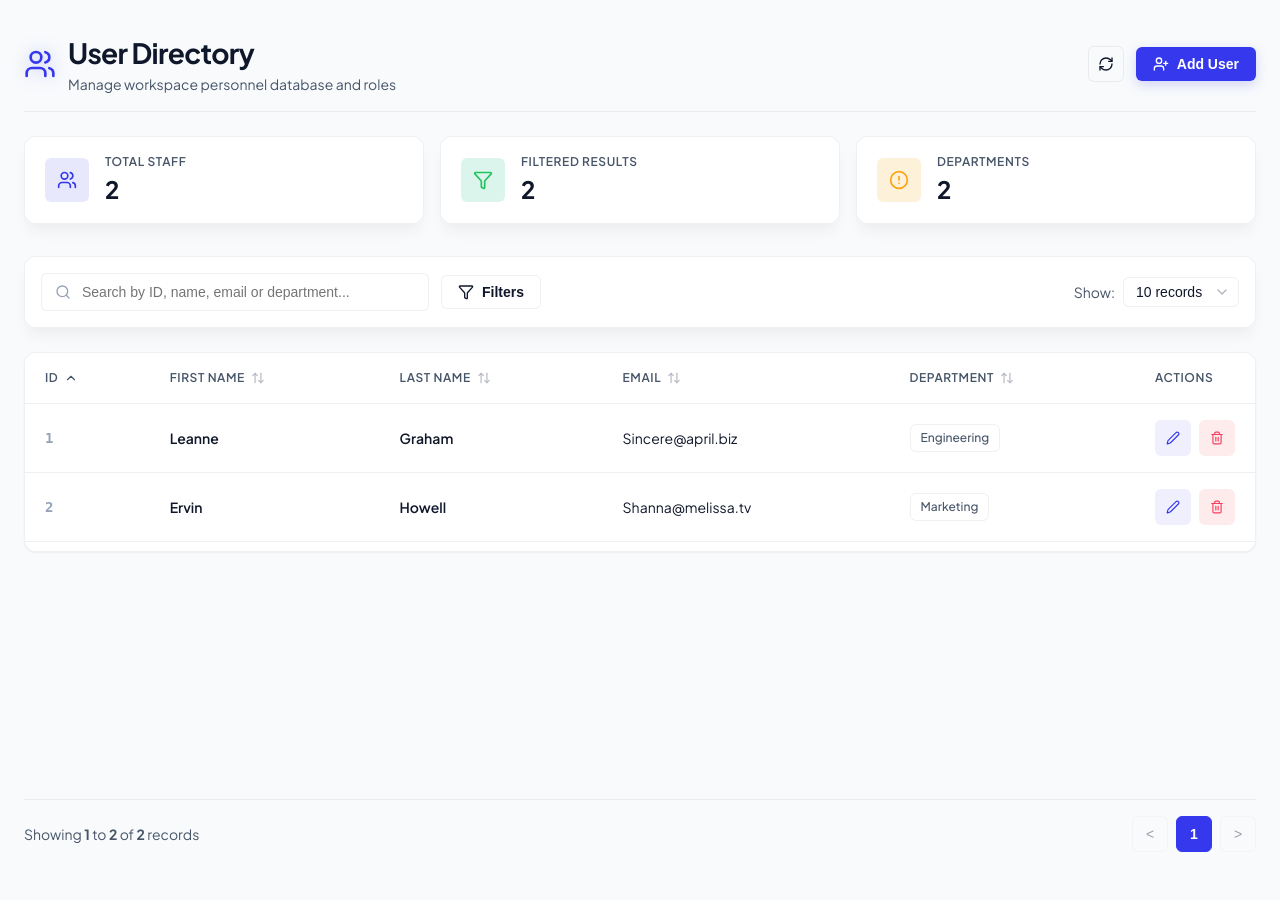
Scenario: User Management App Integration › should display client-side validation errors in form modal
The image size is (1280, 900).
Expected: the element with test id "user-table" is shown, [24,352,1256,552]
# Open add form
Click the button "Add User" at x=1196, y=64, box [1136,46,1256,80]
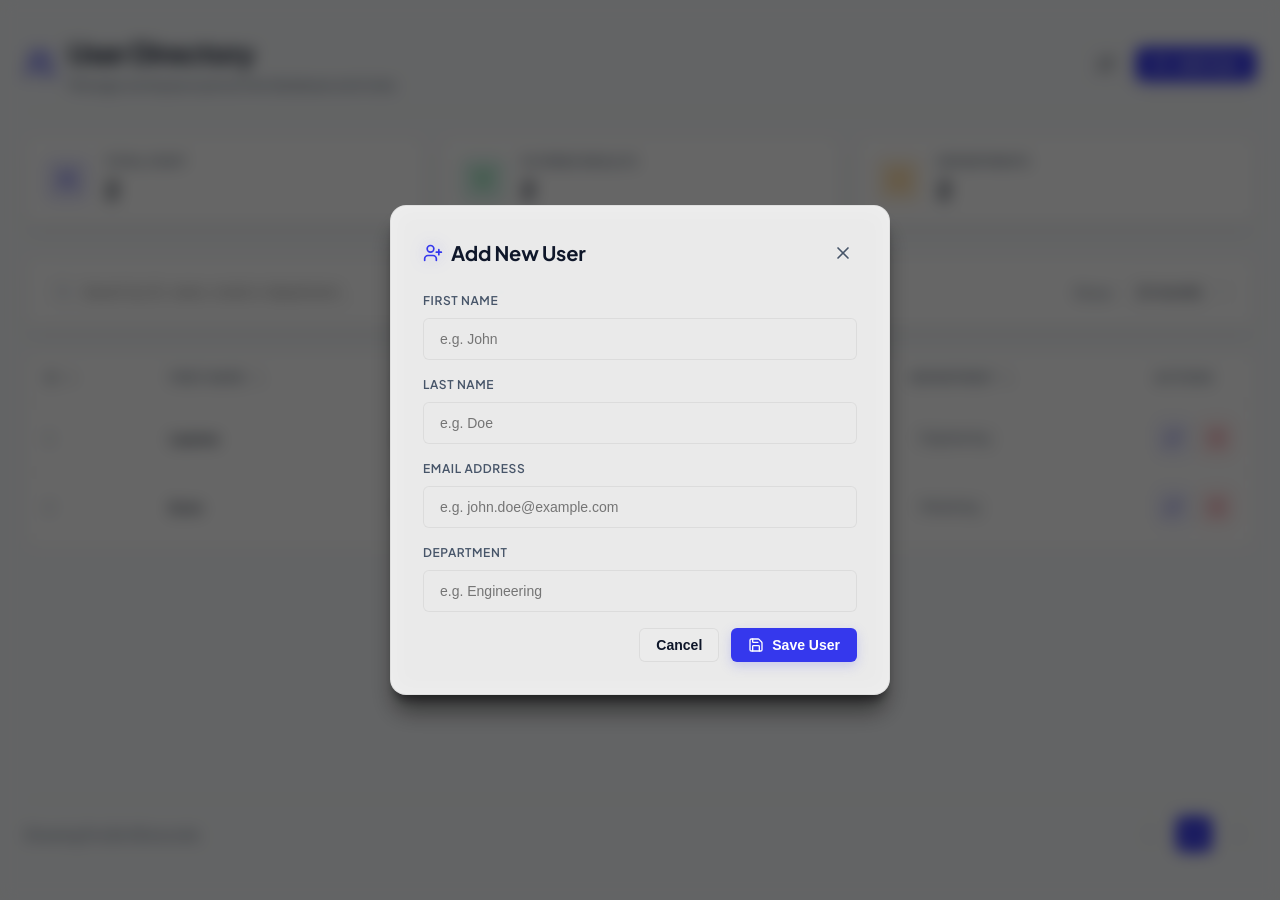
# Click Save directly without typing anything
Click the button with test id "save-user-btn" at x=794, y=645, box [731,628,857,662]
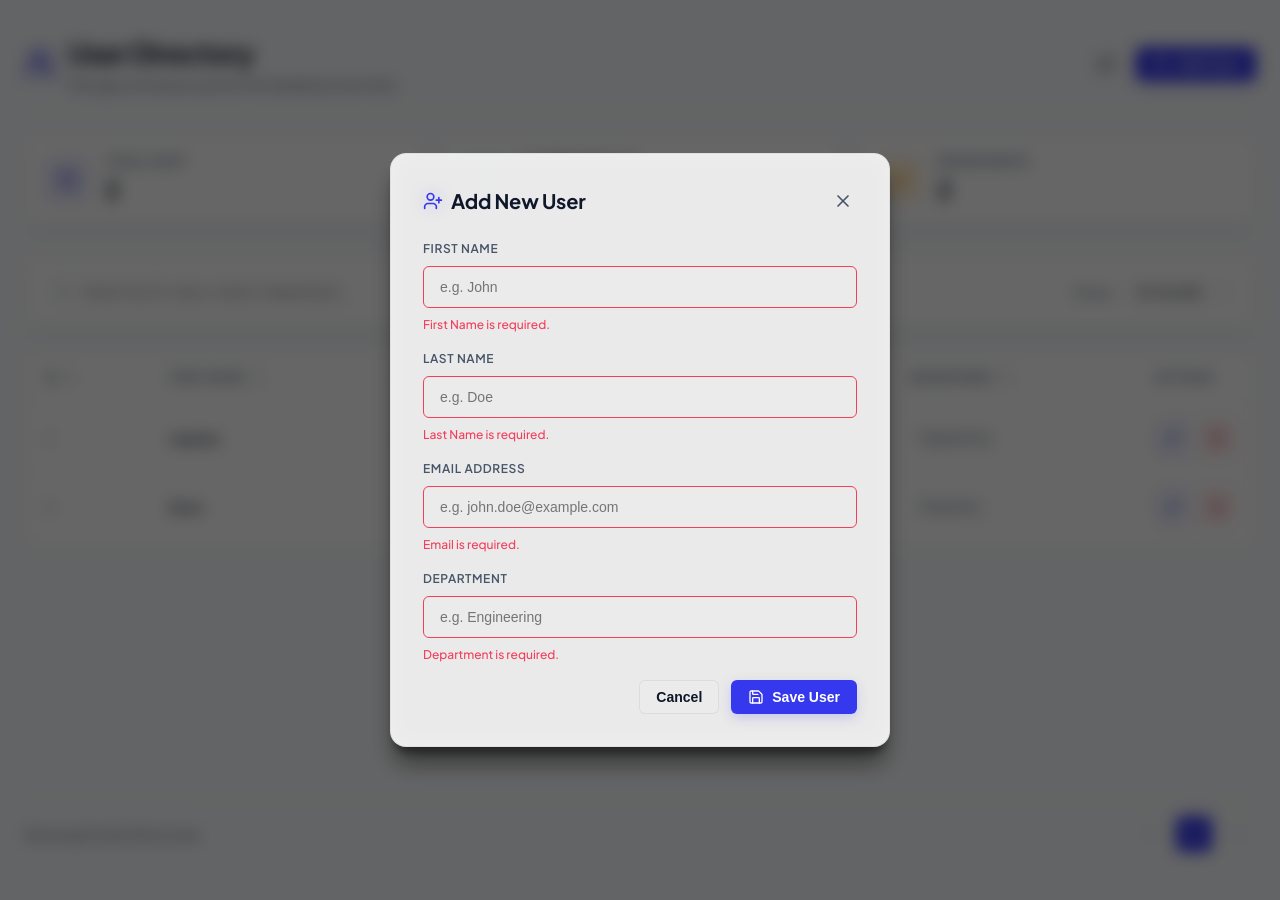
Expected: the text with test id "error-firstName" reads "First Name is required.", [423,317,550,332]
Expected: the text with test id "error-lastName" reads "Last Name is required.", [423,427,549,442]
Expected: the text with test id "error-email" reads "Email is required.", [423,537,520,552]
